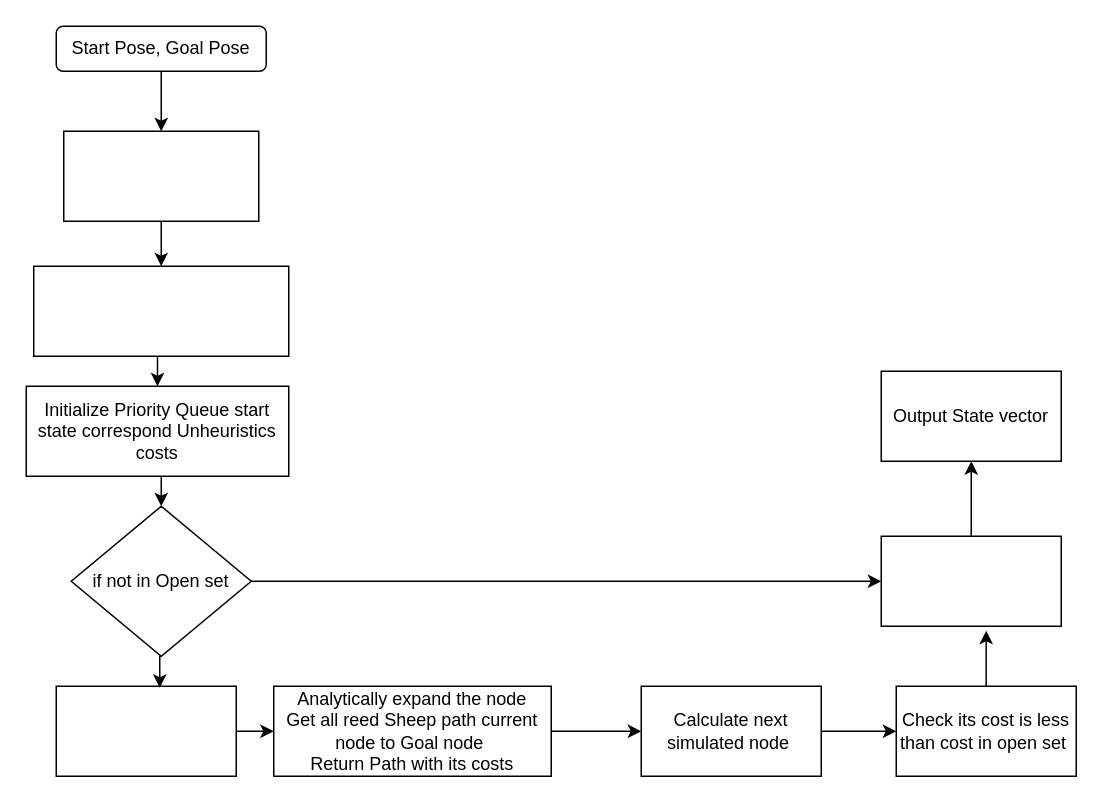
Some shapes in this 1103 by 803 pixel diagram are drawn without their labels. The box of each missing label's shape, as (x1, y1, x2, y2) in pixels:
Back track to get the path: (880, 535, 1061, 626)
Generate Unconstrained heuristics with environment obstalces: (32, 265, 289, 356)
Get current node,: (55, 685, 236, 776)
Get Motion set as per vehicle: (62, 130, 259, 221)
